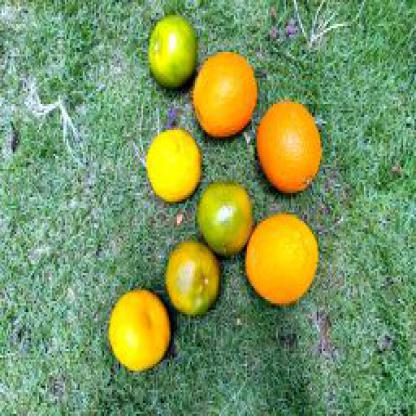orange: (244, 210, 322, 312), (250, 97, 324, 195), (192, 50, 258, 141), (107, 290, 170, 370), (145, 126, 202, 202)
